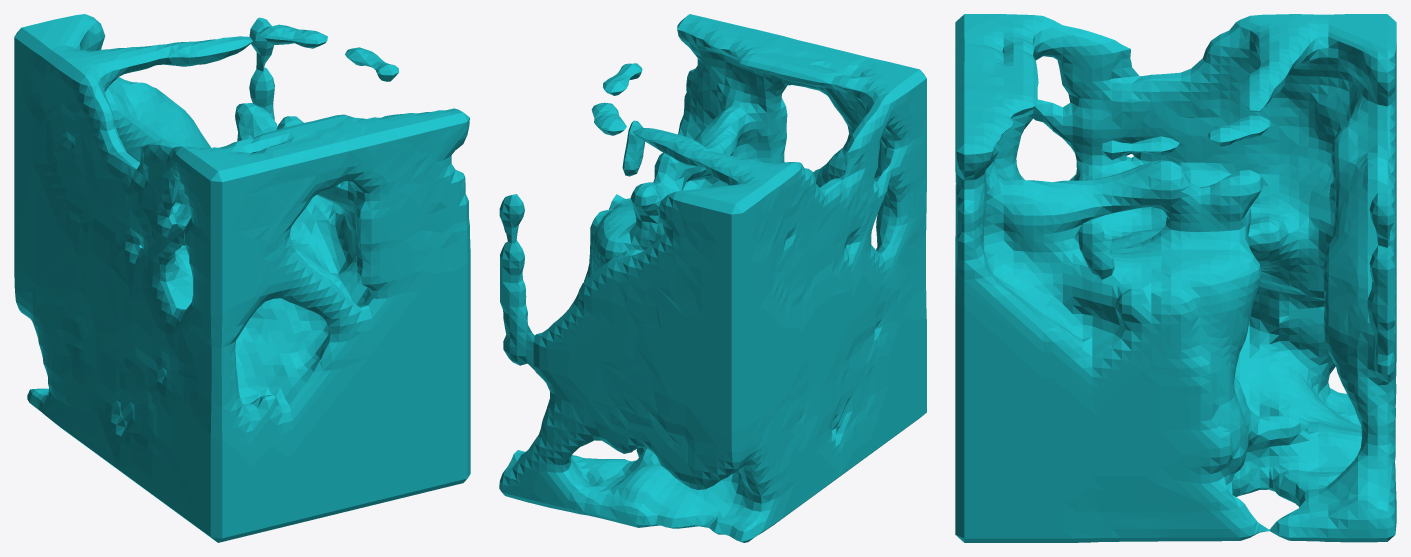
The picture shows the model from 3 angles, left to right: view 1: azimuth 30°, elevation 25°; view 2: azimuth 150°, elevation 25°; view 3: azimuth 270°, elevation 25°; orthographic projection. The views are drawn at different scales.
Visible parts, largest first — view 1: Liquid_Domain; view 2: Liquid_Domain; view 3: Liquid_Domain.
Part boxes in pixels (bbox=[...]): Liquid_Domain: bbox=[14, 14, 470, 542]; Liquid_Domain: bbox=[499, 14, 926, 542]; Liquid_Domain: bbox=[955, 14, 1396, 542].
Size of the model in its own units: 79.12 by 108 by 108.
